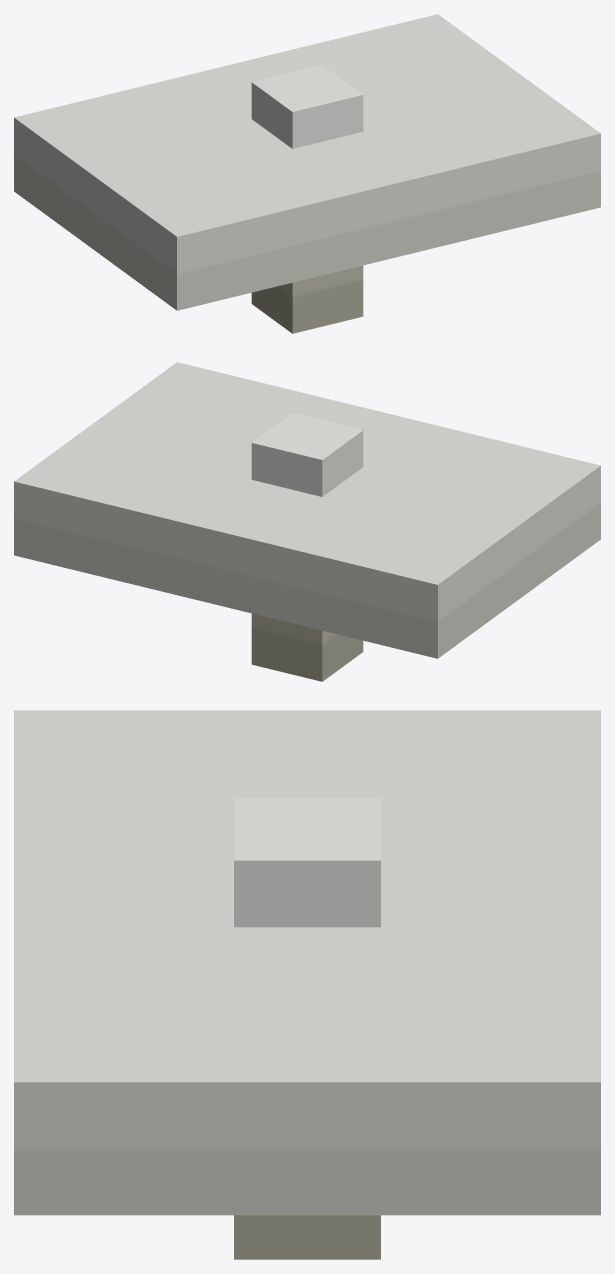
File: Spine072.fbx
The picture shows the model from 3 angles, top to bottom: view 1: azimuth 30°, elevation 25°; view 2: azimuth 150°, elevation 25°; view 3: azimuth 270°, elevation 25°; orthographic projection. The views are drawn at different scales.
Parts seen in each view (by area): view 1: Spine072; view 2: Spine072; view 3: Spine072.
Boxes of the visible parts, x1,y1,x2,y2 form: Spine072: (14, 14, 600, 333); Spine072: (14, 362, 600, 681); Spine072: (14, 710, 600, 1259).
Bounding box in the file's own units: 12 × 6 × 8.
